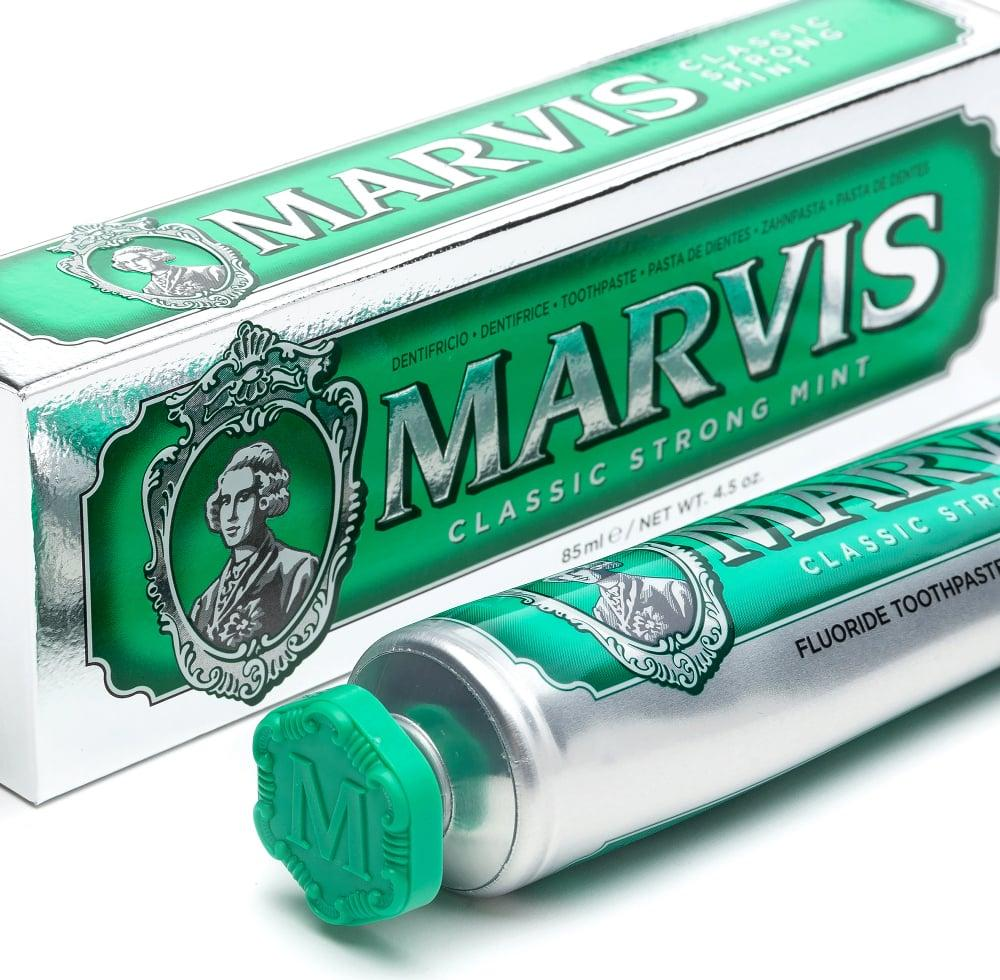toothpaste: (0, 0, 1000, 819), (238, 343, 1000, 940)
